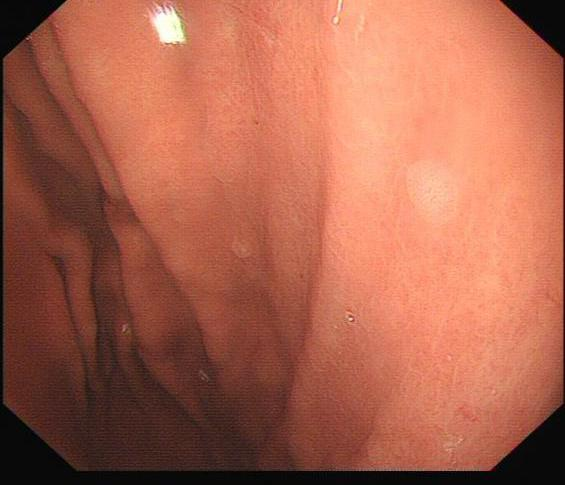Polyp: (402, 158, 456, 229)
